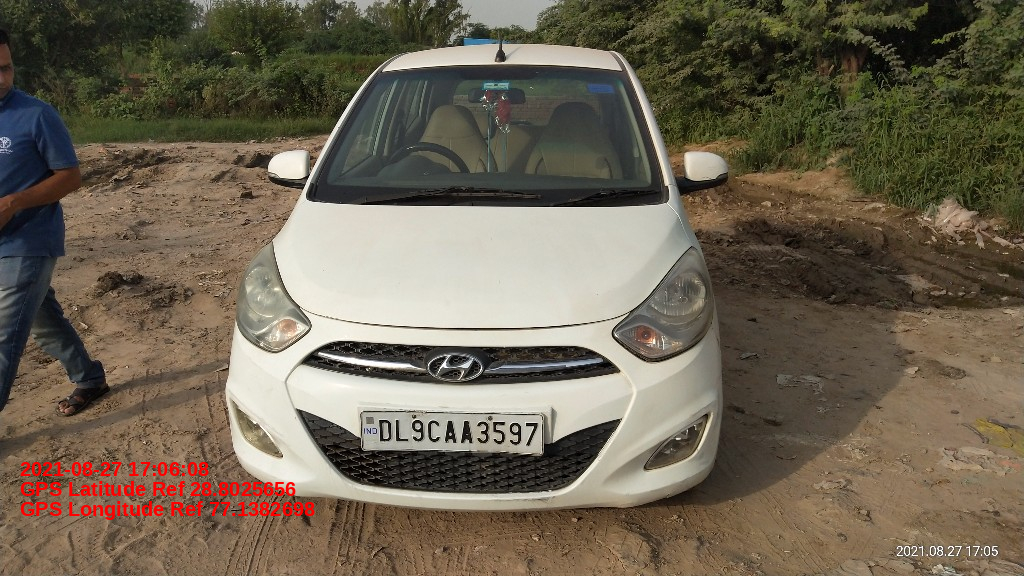Scratched: (482, 491, 562, 512)
